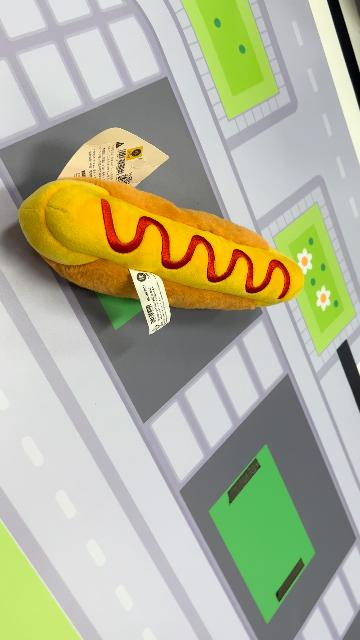hotdog: (18, 176, 306, 312)
